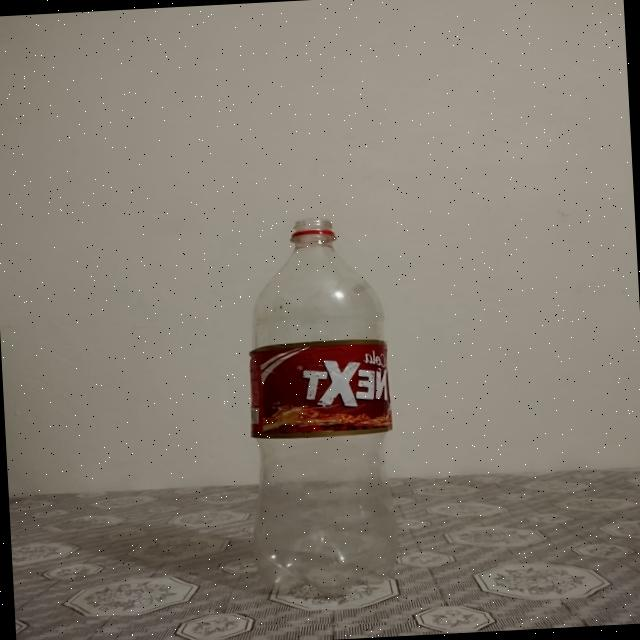bottle: (230, 215, 397, 602)
label: (242, 338, 390, 442)
